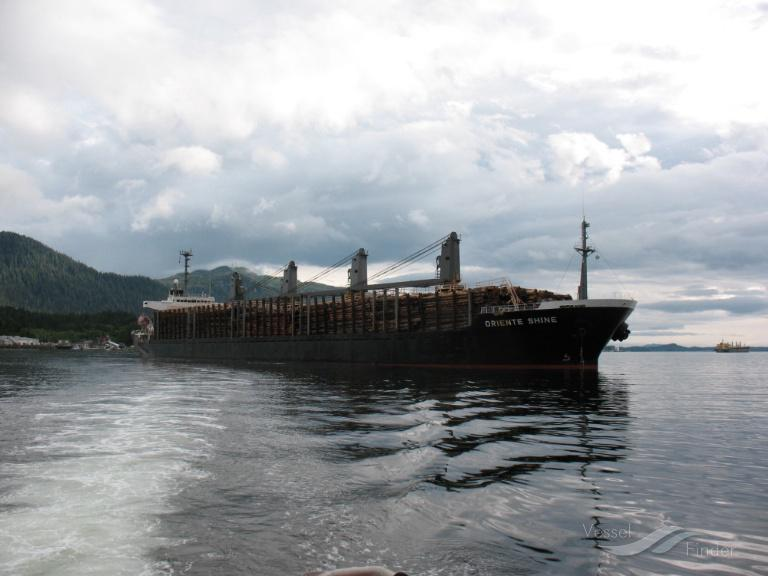OCR: (484, 312, 560, 332)
